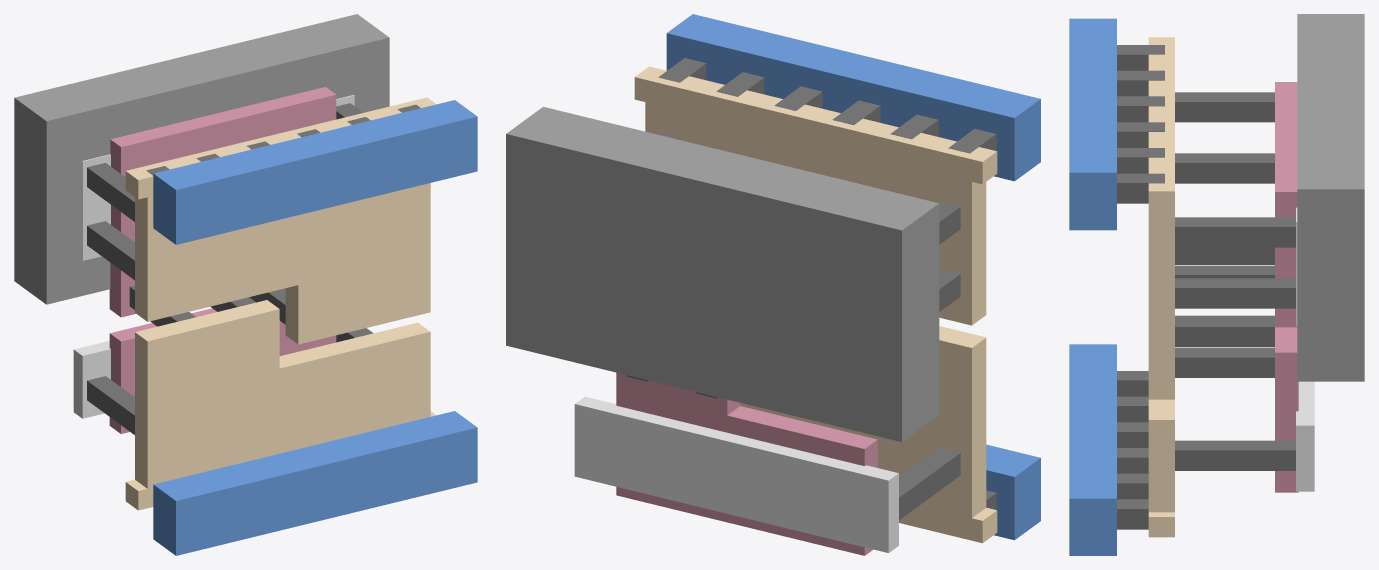
The model's file is sky130_fd_sc_hd__decap_6.gds.gltf.
3 views of the same model, side by side, from view 1: azimuth 30°, elevation 25°; view 2: azimuth 150°, elevation 25°; view 3: azimuth 270°, elevation 25° (orthographic). The views are drawn at different scales.
Visible parts, largest first — view 1: sky130_fd_sc_hd__decap_6_li1, sky130_fd_sc_hd__decap_6_met1, sky130_fd_sc_hd__decap_6_nwell, sky130_fd_sc_hd__decap_6_poly, sky130_fd_sc_hd__decap_6_licon, sky130_fd_sc_hd__decap_6_diff, sky130_fd_sc_hd__decap_6_mcon; view 2: sky130_fd_sc_hd__decap_6_nwell, sky130_fd_sc_hd__decap_6_li1, sky130_fd_sc_hd__decap_6_diff, sky130_fd_sc_hd__decap_6_met1, sky130_fd_sc_hd__decap_6_poly, sky130_fd_sc_hd__decap_6_mcon, sky130_fd_sc_hd__decap_6_licon; view 3: sky130_fd_sc_hd__decap_6_licon, sky130_fd_sc_hd__decap_6_nwell, sky130_fd_sc_hd__decap_6_met1, sky130_fd_sc_hd__decap_6_li1, sky130_fd_sc_hd__decap_6_mcon, sky130_fd_sc_hd__decap_6_poly, sky130_fd_sc_hd__decap_6_diff.
Boxes of the visible parts, <box> form: sky130_fd_sc_hd__decap_6_li1: <box>125,97,436,510</box>; sky130_fd_sc_hd__decap_6_met1: <box>153,100,477,555</box>; sky130_fd_sc_hd__decap_6_nwell: <box>14,14,389,304</box>; sky130_fd_sc_hd__decap_6_poly: <box>109,87,336,433</box>; sky130_fd_sc_hd__decap_6_licon: <box>87,103,372,434</box>; sky130_fd_sc_hd__decap_6_diff: <box>73,95,354,418</box>; sky130_fd_sc_hd__decap_6_mcon: <box>146,104,420,175</box>; sky130_fd_sc_hd__decap_6_nwell: <box>506,106,939,441</box>; sky130_fd_sc_hd__decap_6_li1: <box>634,66,997,543</box>; sky130_fd_sc_hd__decap_6_diff: <box>574,396,898,553</box>; sky130_fd_sc_hd__decap_6_met1: <box>666,14,1040,540</box>; sky130_fd_sc_hd__decap_6_poly: <box>616,372,877,555</box>; sky130_fd_sc_hd__decap_6_mcon: <box>658,58,996,509</box>; sky130_fd_sc_hd__decap_6_licon: <box>626,132,960,520</box>; sky130_fd_sc_hd__decap_6_licon: <box>1175,92,1295,470</box>; sky130_fd_sc_hd__decap_6_nwell: <box>1297,14,1364,381</box>; sky130_fd_sc_hd__decap_6_met1: <box>1069,18,1116,555</box>; sky130_fd_sc_hd__decap_6_li1: <box>1148,37,1174,537</box>; sky130_fd_sc_hd__decap_6_mcon: <box>1117,45,1164,529</box>; sky130_fd_sc_hd__decap_6_poly: <box>1275,82,1298,492</box>; sky130_fd_sc_hd__decap_6_diff: <box>1296,207,1314,491</box>.
Size of the model in its own units: 3.14 by 3.2 by 2.24.
